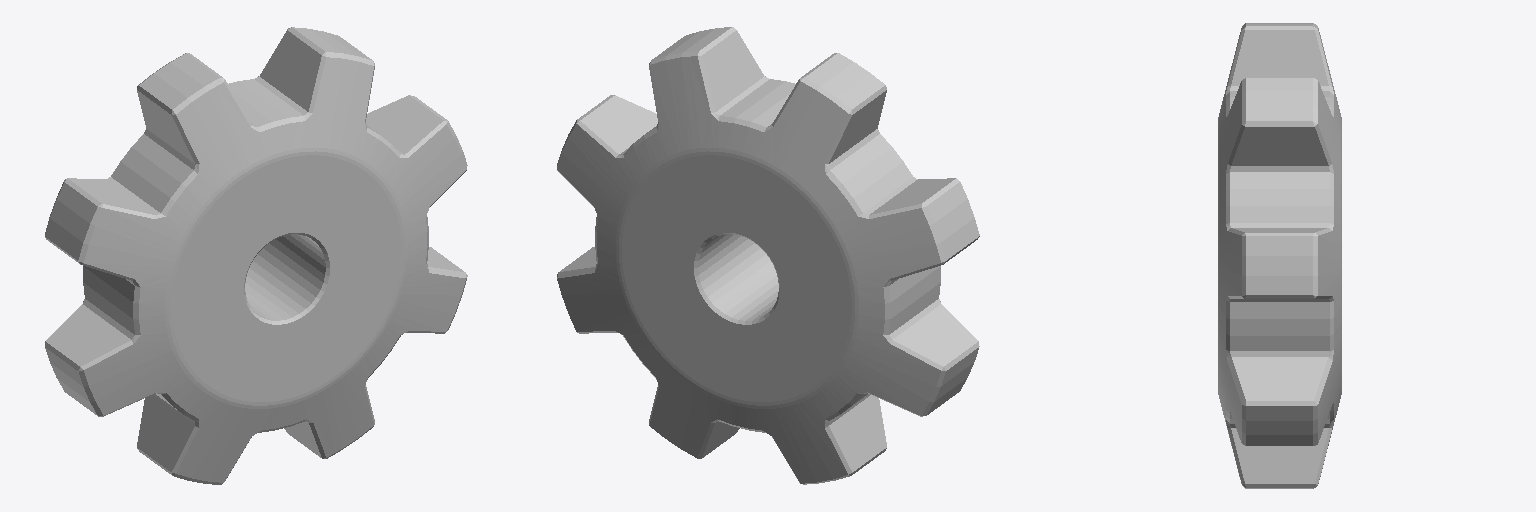
3 renders of one model, left to right at view 1: azimuth 30°, elevation 25°; view 2: azimuth 150°, elevation 25°; view 3: azimuth 270°, elevation 25°, orthographic.
Parts seen in each view (by area): view 1: gear; view 2: gear; view 3: gear.
Part boxes in pixels (left/top/right/bottom): gear: left=45, top=27, right=467, bottom=484; gear: left=557, top=27, right=979, bottom=484; gear: left=1218, top=23, right=1341, bottom=488.
Size of the model in its own units: 0.0724 by 0.0724 by 0.02.